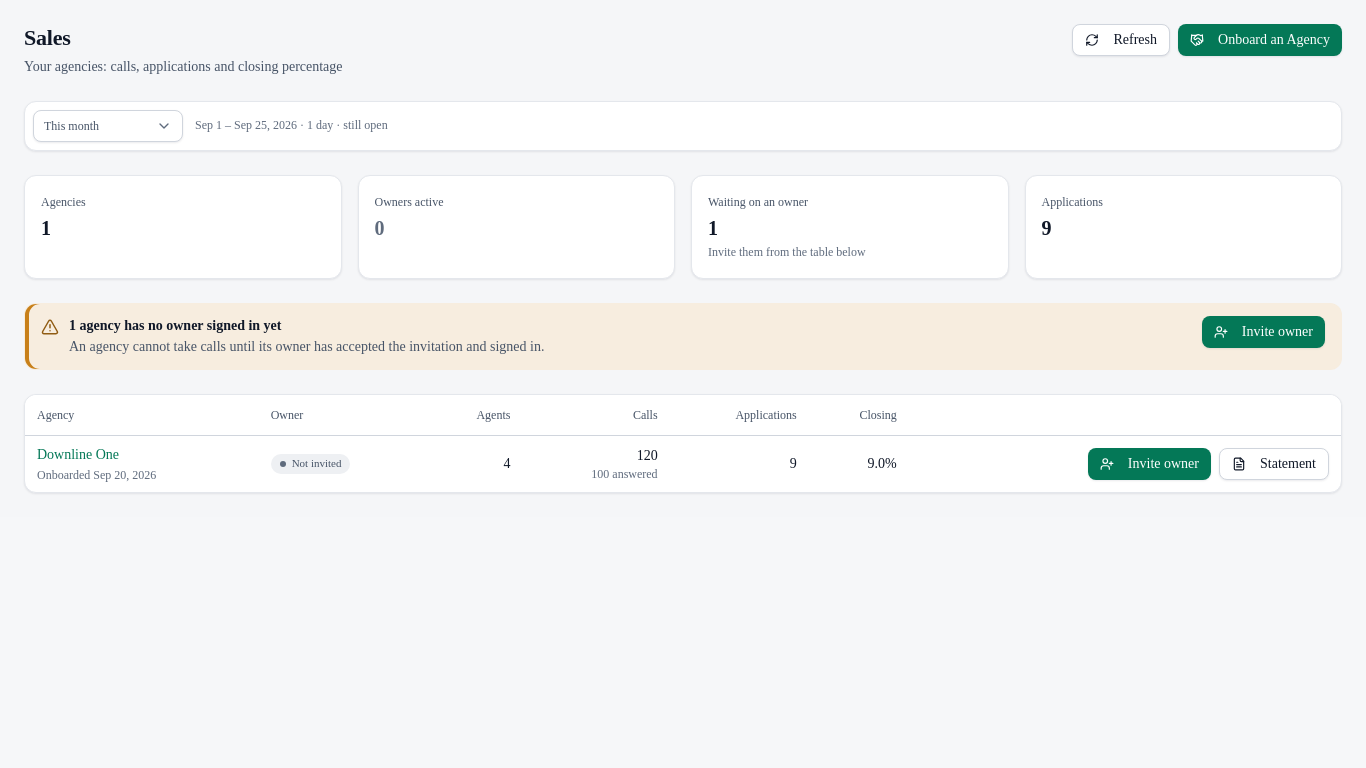
white-label screens › /network/agencies › invites an owner from the row: asks for the email and posts it to the agency
Expected: the link "Downline One" is shown, [37, 444, 119, 464]
Expected: the text "Not invited" is shown, [271, 454, 350, 474]
// The row's own button, not only the banner above the table.
Click the button "Invite owner" in the row of "Downline One": {"x": 1149, "y": 464} [1088, 448, 1211, 480]
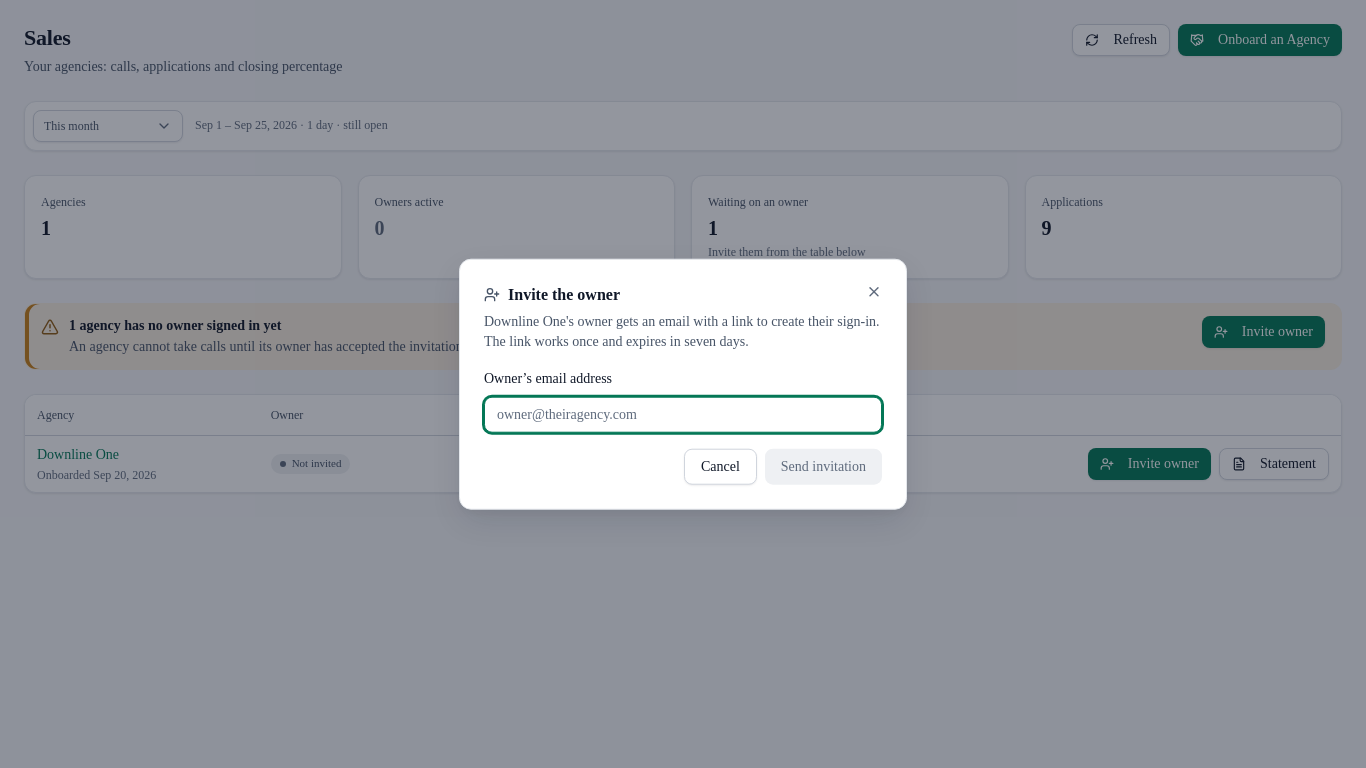
In the field labelled "Owner’s email address": {"x": 683, "y": 414} [484, 396, 882, 432], type "New.Owner@Downline.test"
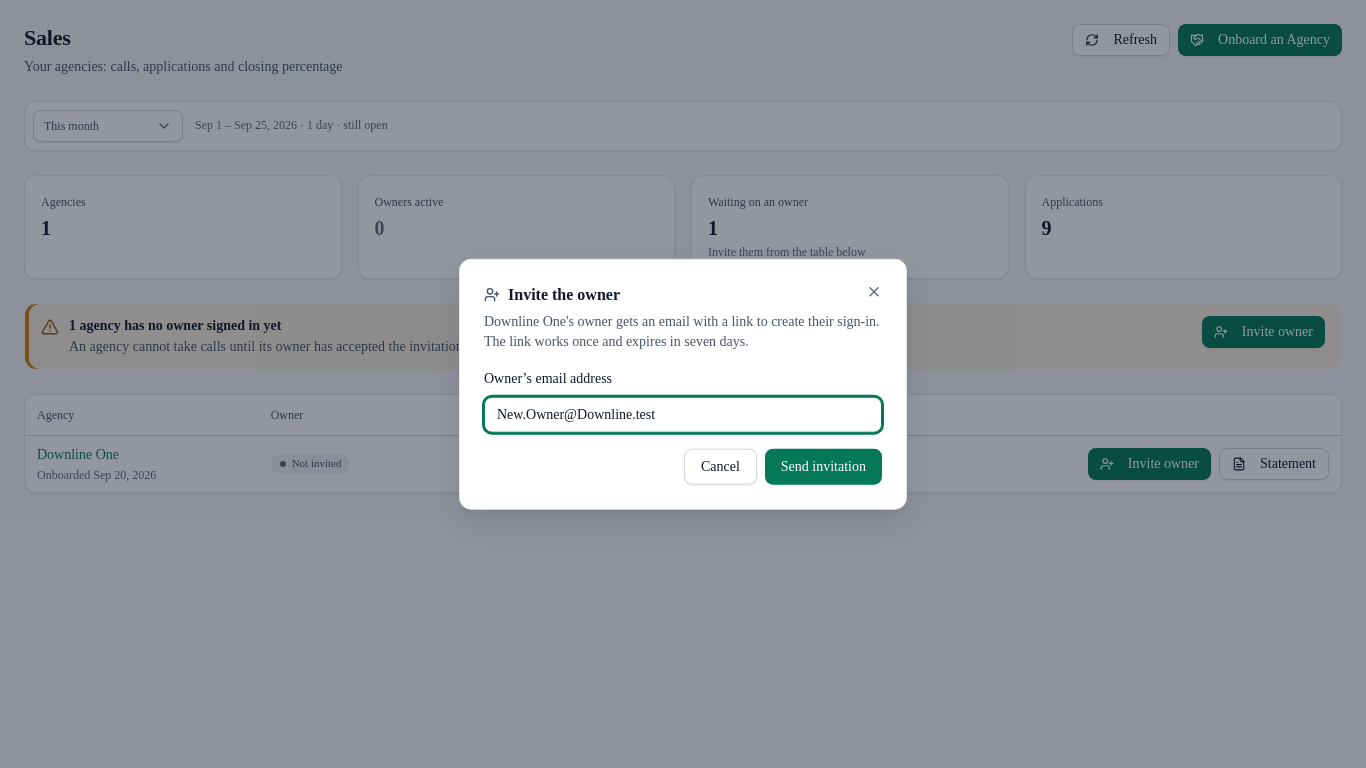
Click the button "Send invitation": {"x": 823, "y": 466} [765, 448, 882, 484]
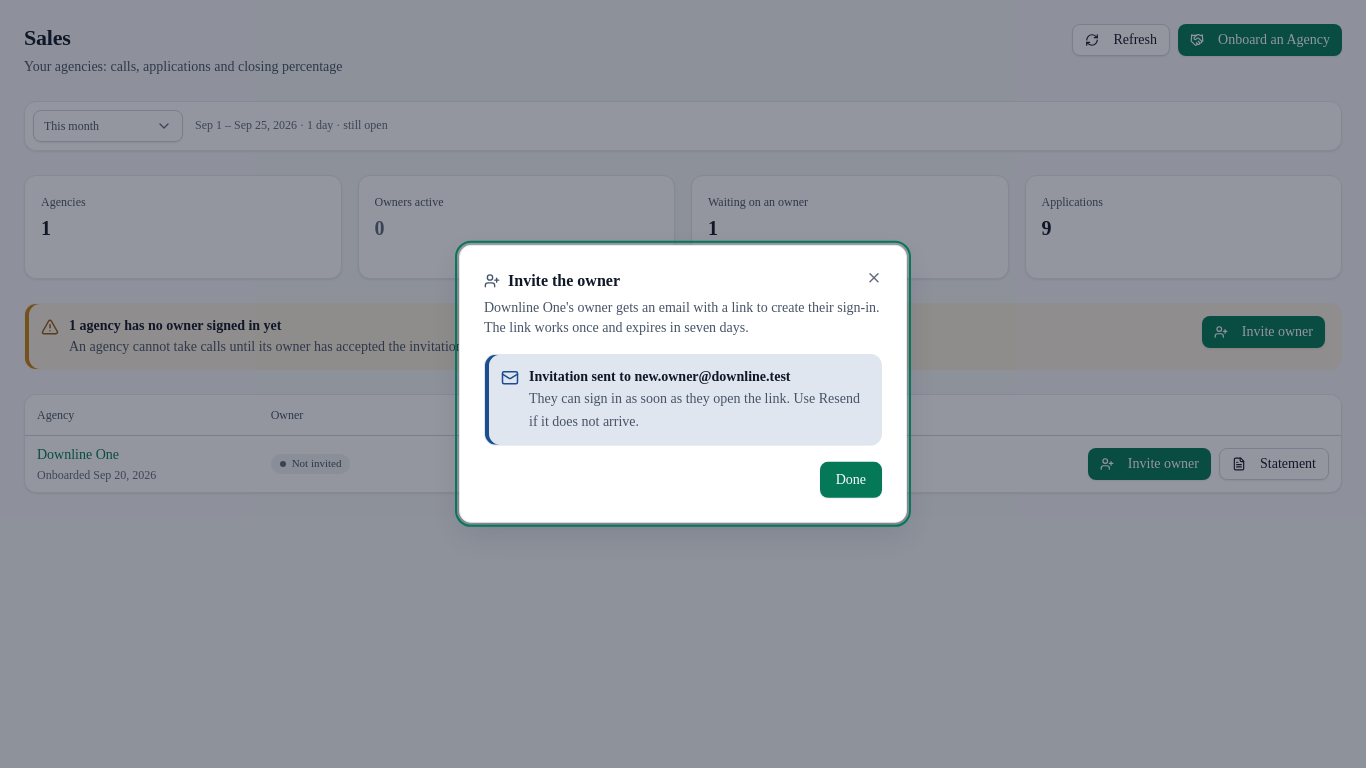
Expected: the heading "Invitation sent to new.owner@downline.test" is shown, [529, 368, 790, 383]
